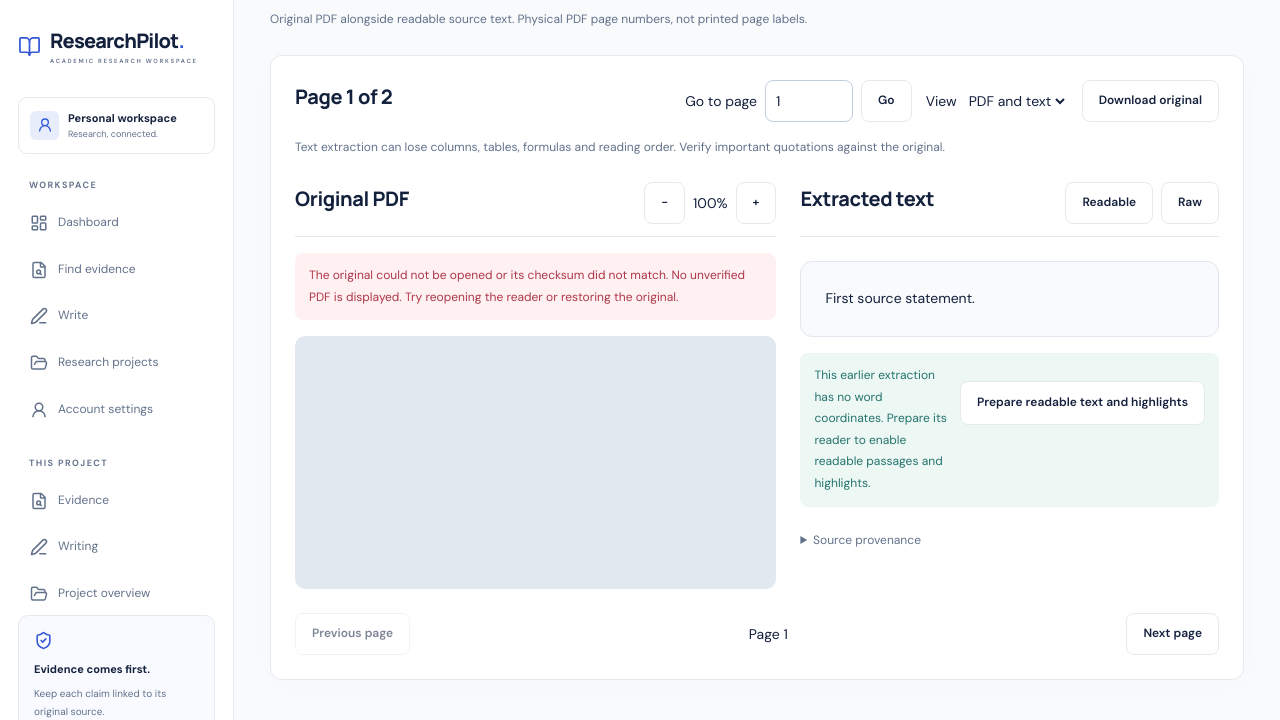
Test: navigates physical PDF pages and exposes original source provenance
This screenshot has width=1280, height=720.
(page scrolled)
Expected: the text "First source statement." is shown, [800,261,1219,337]
Expected: the button "Previous page" is disabled, [295,613,410,655]
What coordinates should you click on to do the following:
click the button "Next page"
I would click on:
 (1173, 634)
Its box is [1126,613,1219,655].
(page scrolled)
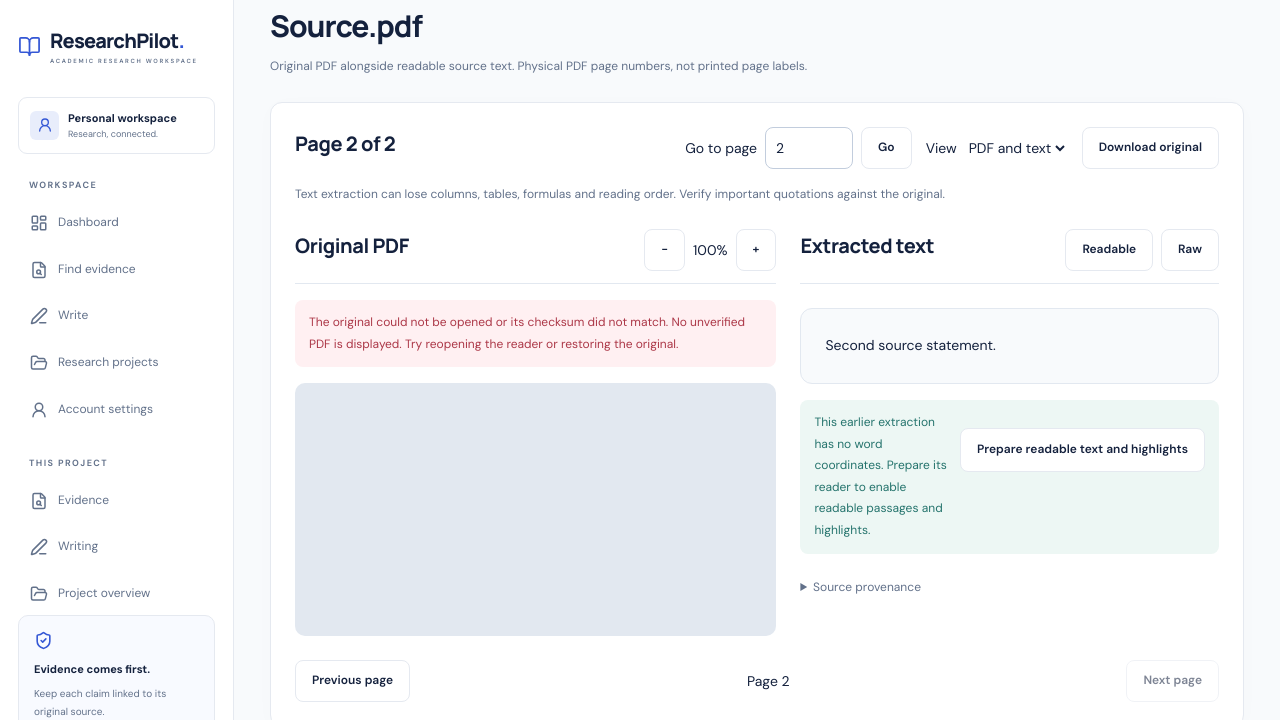
Now the text "Second source statement." is shown, box [800,308,1219,384]
Now the button "Next page" is disabled, box [1126,660,1219,702]
What coordinates should you click on to do the following:
click the heading "Source provenance"
I would click on:
 (867, 587)
Its box is [813,579,921,595].
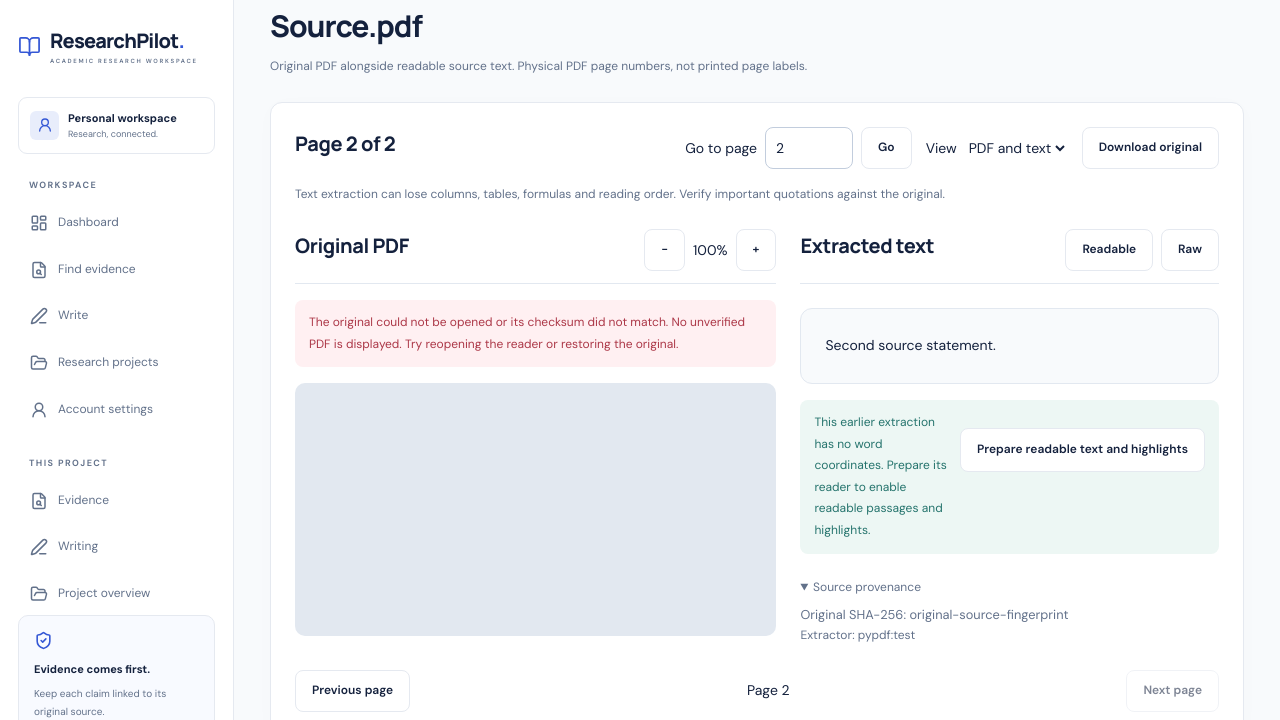
Expected: the text "Verify important quotations against the original" is shown, [295,186,945,202]
Now the text "Original SHA-256: original-source-fingerprint" is shown, box [800,606,1069,623]
